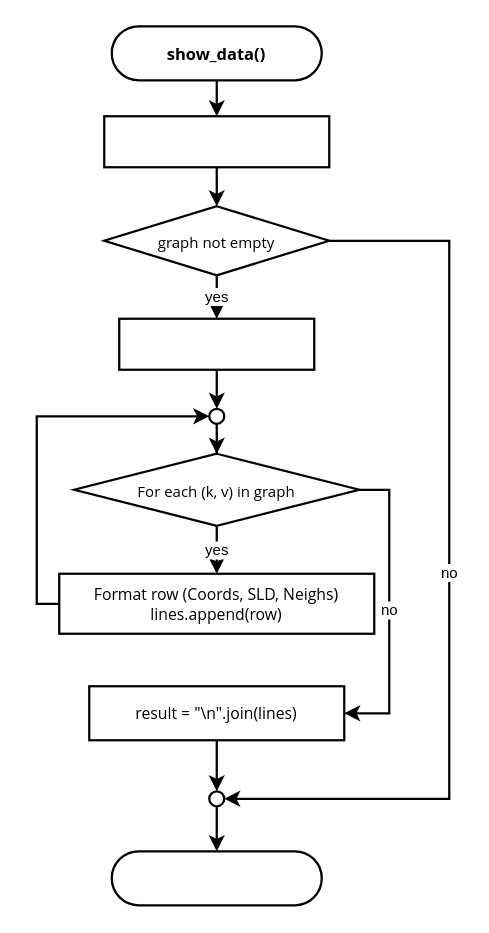
The diagram is 489 pixels wide and 933 high, and some of its shapes have lost their labels. The shapes that lost their labels are listed below. From the top down, each one's centre as x and y in pixels, then its label:
(216,141): result = "No data"
(216,343): lines = [header]
(216,877): return result
